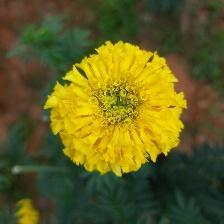marigold: (49, 41, 187, 180)
